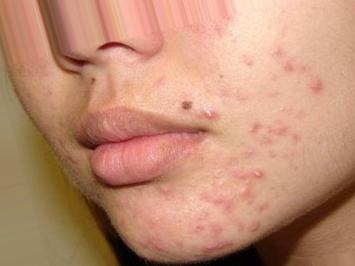Acne: (89, 62, 307, 235)
